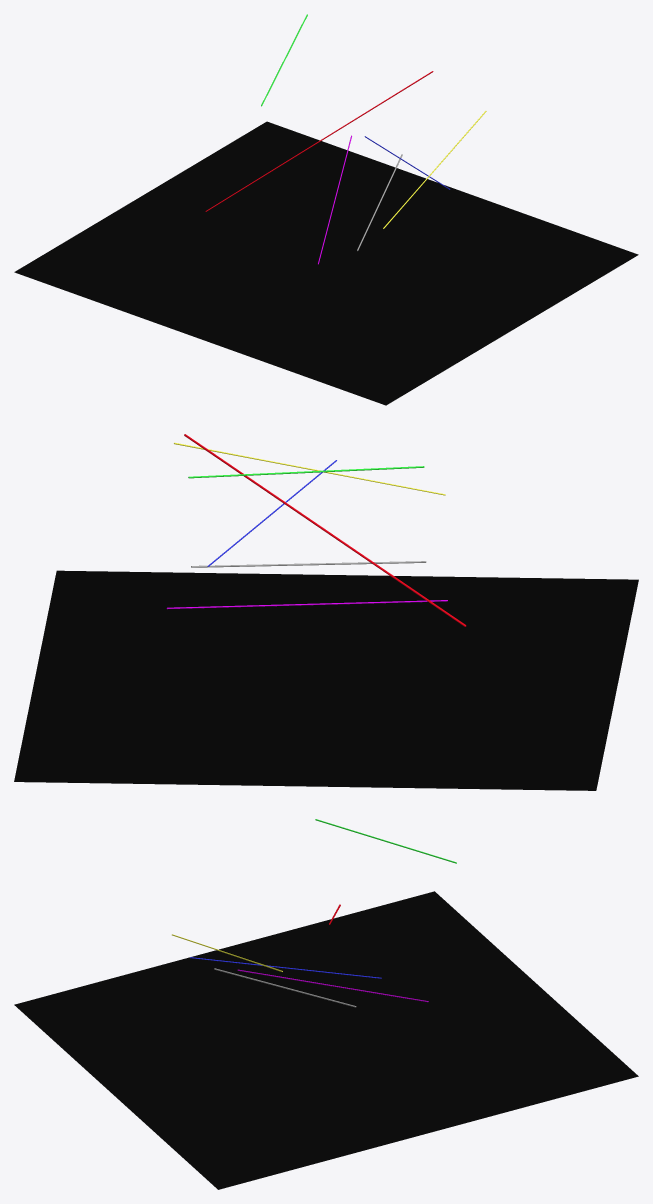
Rendered from LageB_parallel_zwischen_grau_strecke.glb.
The picture shows the model from 3 angles, top to bottom: view 1: azimuth 30°, elevation 25°; view 2: azimuth 150°, elevation 25°; view 3: azimuth 270°, elevation 25°; orthographic projection. The views are drawn at different scales.
Visible parts, largest first — view 1: p.0022; view 2: p.0022, s.0045, s.0033, s.0053, s.0049, s.0040; view 3: p.0022.
Boxes of the visible parts, x1,y1,x2,y2 form: p.0022: (14, 121, 638, 405); p.0022: (14, 570, 638, 790); s.0045: (184, 434, 466, 626); s.0033: (166, 600, 447, 609); s.0053: (191, 561, 426, 567); s.0049: (188, 466, 424, 478); s.0040: (174, 442, 445, 495); p.0022: (14, 891, 638, 1189).
Bounding box in the file's own units: 5.51 × 2.12 × 5.51.
